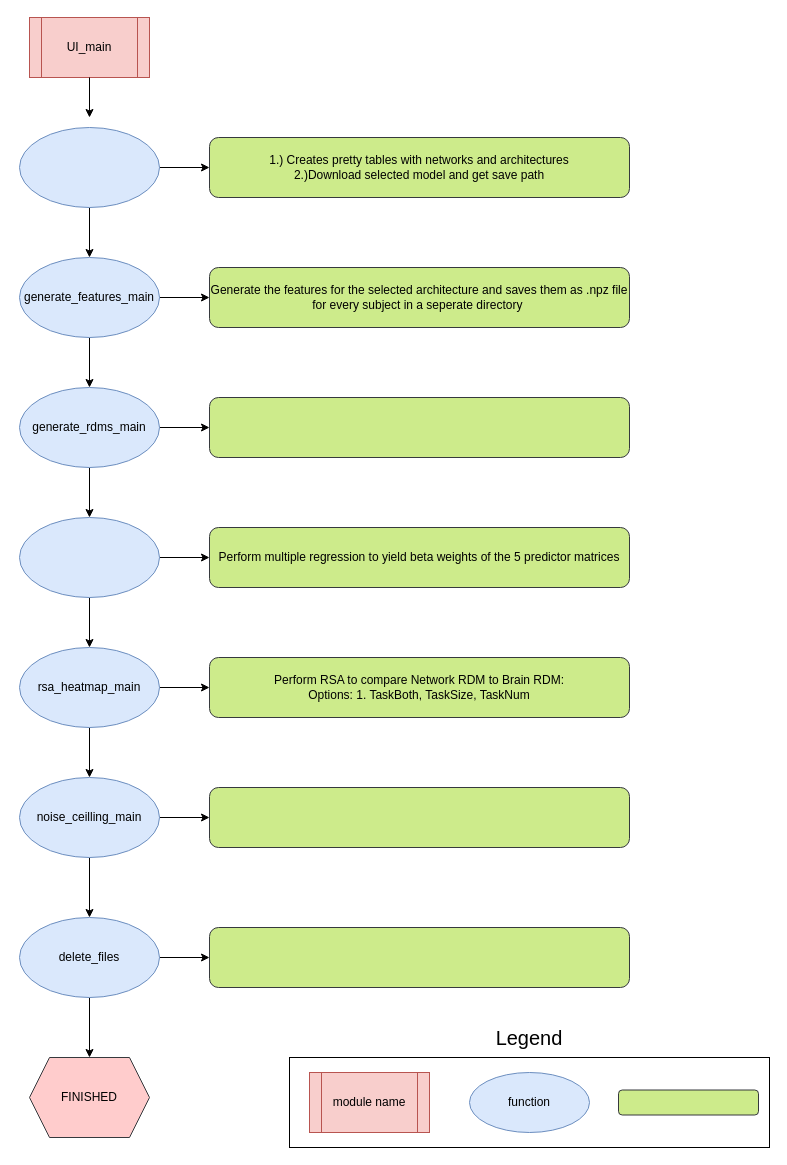
The diagram is 787 pixels wide and 1165 high, and some of its shapes have lost their labels. The centre of each missing label's shape, as x and y in pixels:
Calculate noise ceilling and visualize in graph with correlation: pixel 419 817
choose_model_main(): pixel 89 167
functionality explenation: pixel 688 1102
Generates the RDMs for every subject and for the average of all subjects: pixel 419 427
multiple_regression_main(): pixel 89 557
Optional: Offers the option to delete all .npz files to save memory: pixel 419 957
